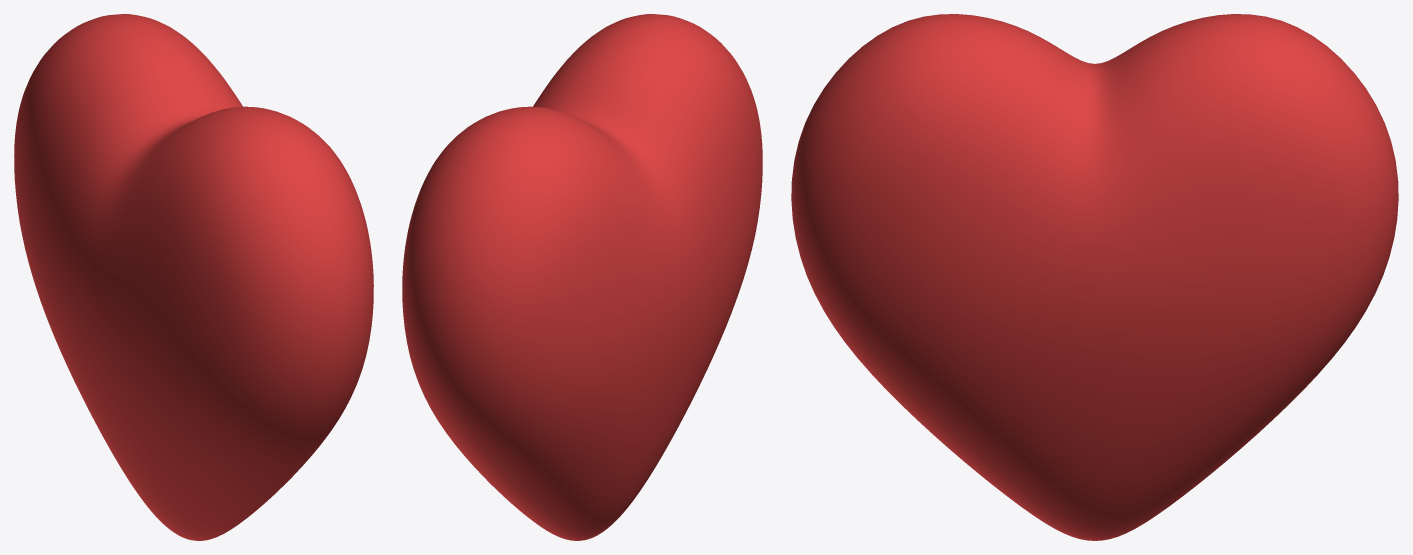
The model's file is asset.glb.
3 views of the same model, side by side, from view 1: azimuth 30°, elevation 25°; view 2: azimuth 150°, elevation 25°; view 3: azimuth 270°, elevation 25° (orthographic). The views are drawn at different scales.
Parts seen in each view (by area): view 1: 12190_Heart_v1_L3; view 2: 12190_Heart_v1_L3; view 3: 12190_Heart_v1_L3.
Boxes of the visible parts, x1,y1,x2,y2 form: 12190_Heart_v1_L3: (14, 14, 373, 540); 12190_Heart_v1_L3: (402, 14, 762, 540); 12190_Heart_v1_L3: (791, 14, 1398, 540).
Size of the model in its own units: 9.15 by 19.92 by 21.26.
